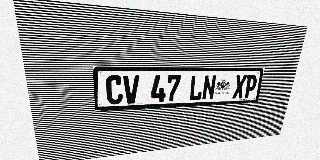4: (151, 75, 166, 103)
7: (166, 75, 181, 102)
C: (105, 75, 123, 105)
L: (189, 75, 204, 101)
N: (201, 75, 217, 100)
P: (243, 75, 258, 98)
V: (123, 75, 139, 104)
X: (232, 75, 247, 99)
